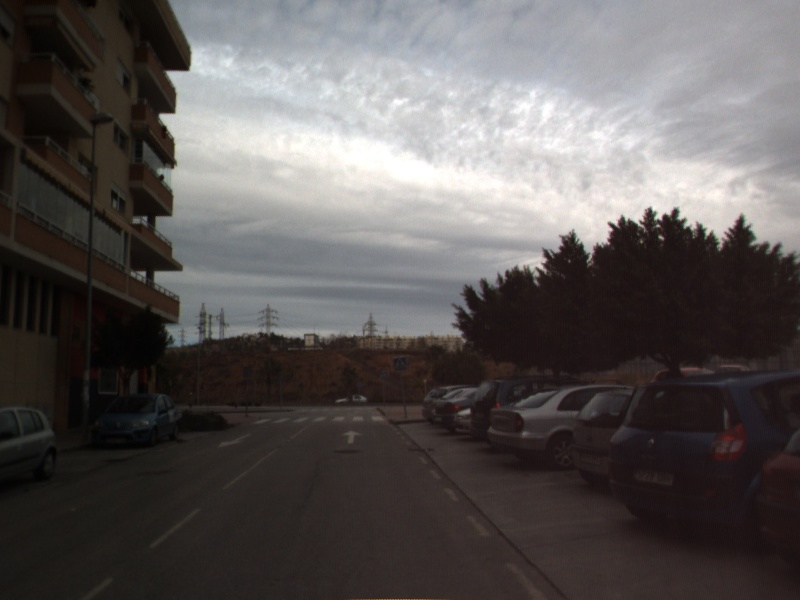STRAIGHT: (340, 428, 365, 445)
